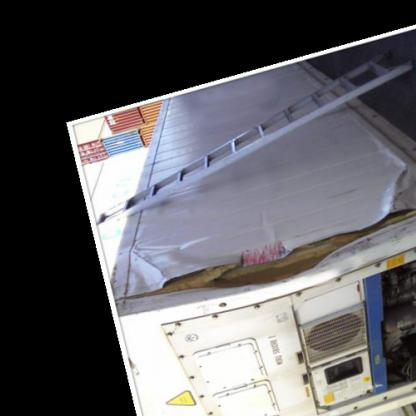Damage: (125, 216, 407, 304)
